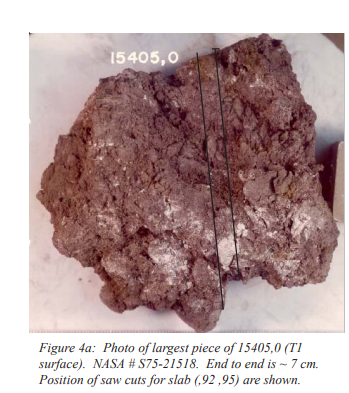Breccia: (45, 53, 238, 325), (203, 38, 341, 291), (94, 128, 178, 273)
